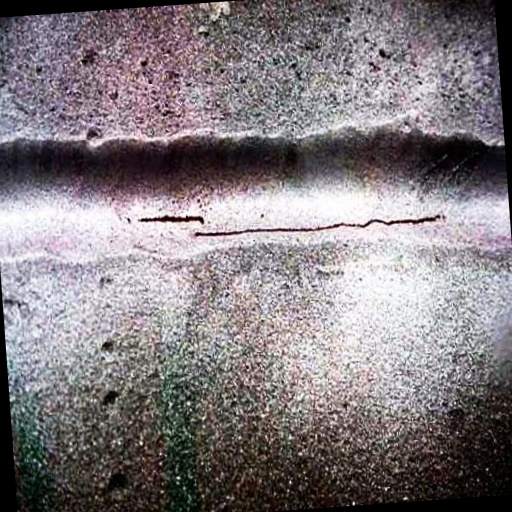crack: (187, 201, 452, 250), (140, 205, 214, 230)
